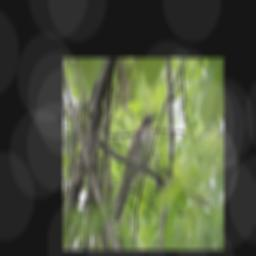Cuckoo: (110, 112, 159, 225)
